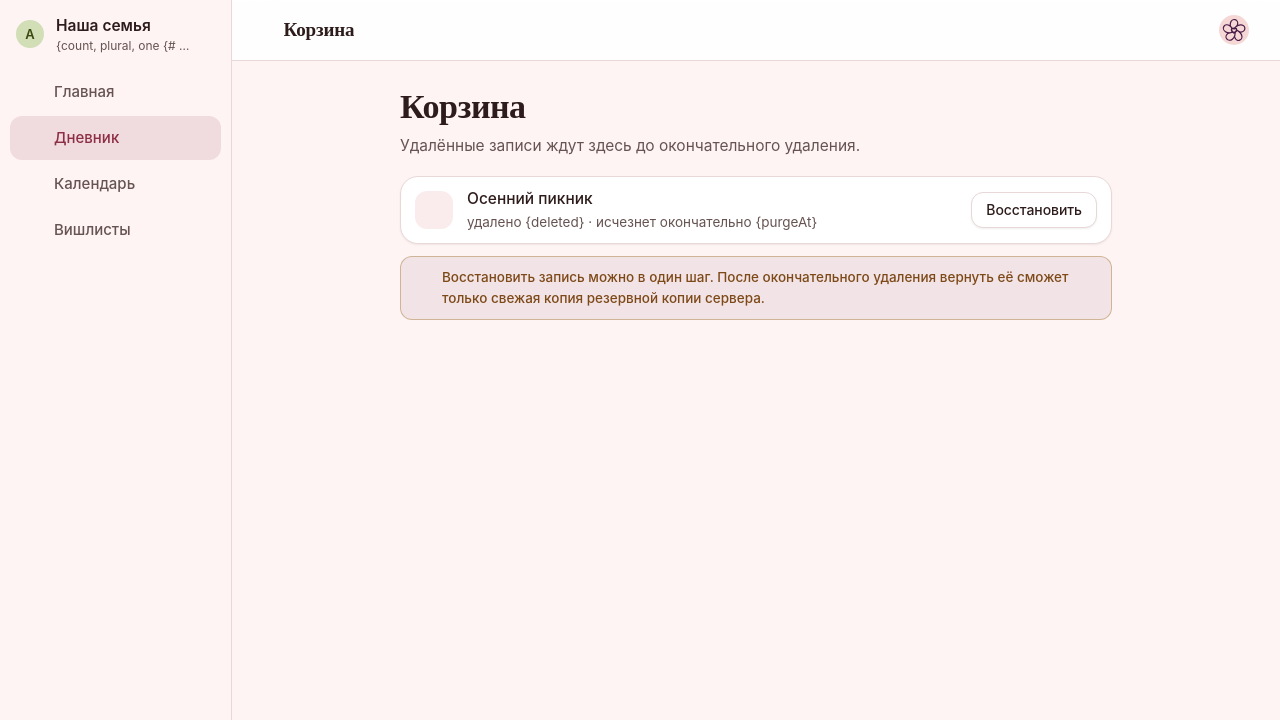
Test: JournalTrashScreen › fades a restored row out where it stood before the list closes over it (issue #72)
Click the button "Восстановить".
click(1034, 210)  # box [971,192,1097,228]
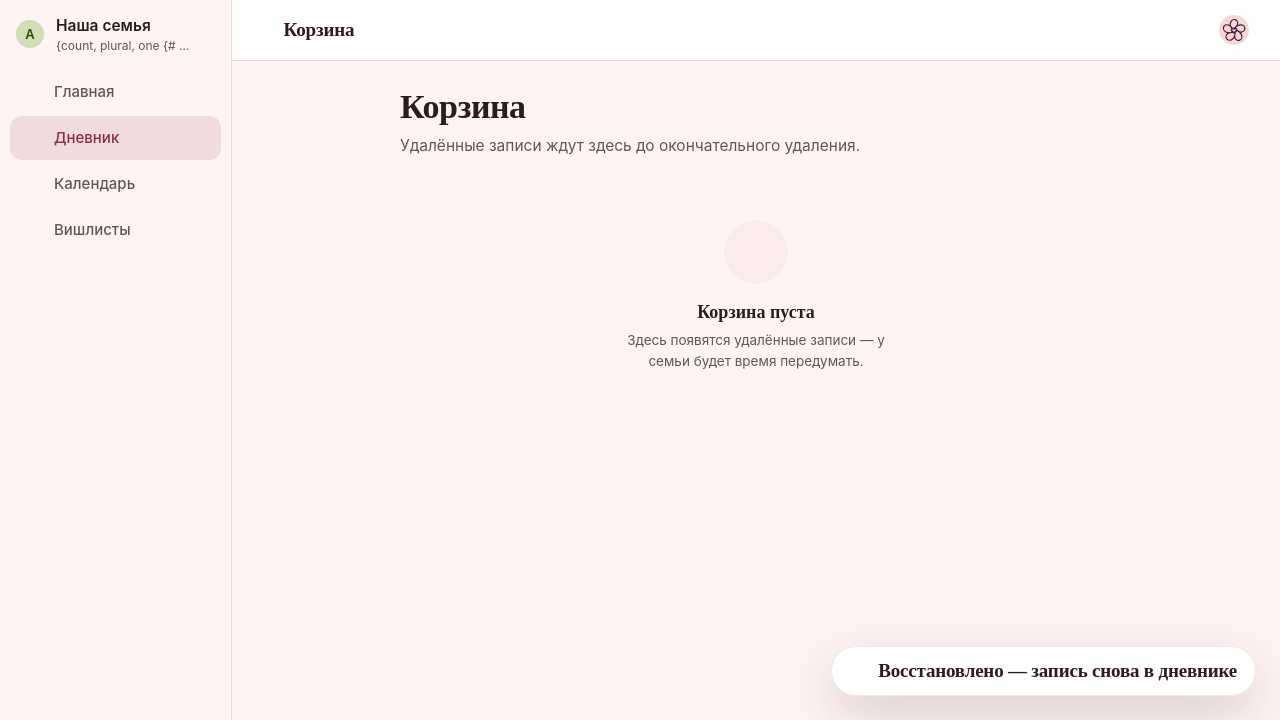
Now the heading "Восстановлено — запись снова в дневнике" is shown, box [878,659,1237,683]
Now the text "Осенний пикник" is gone
